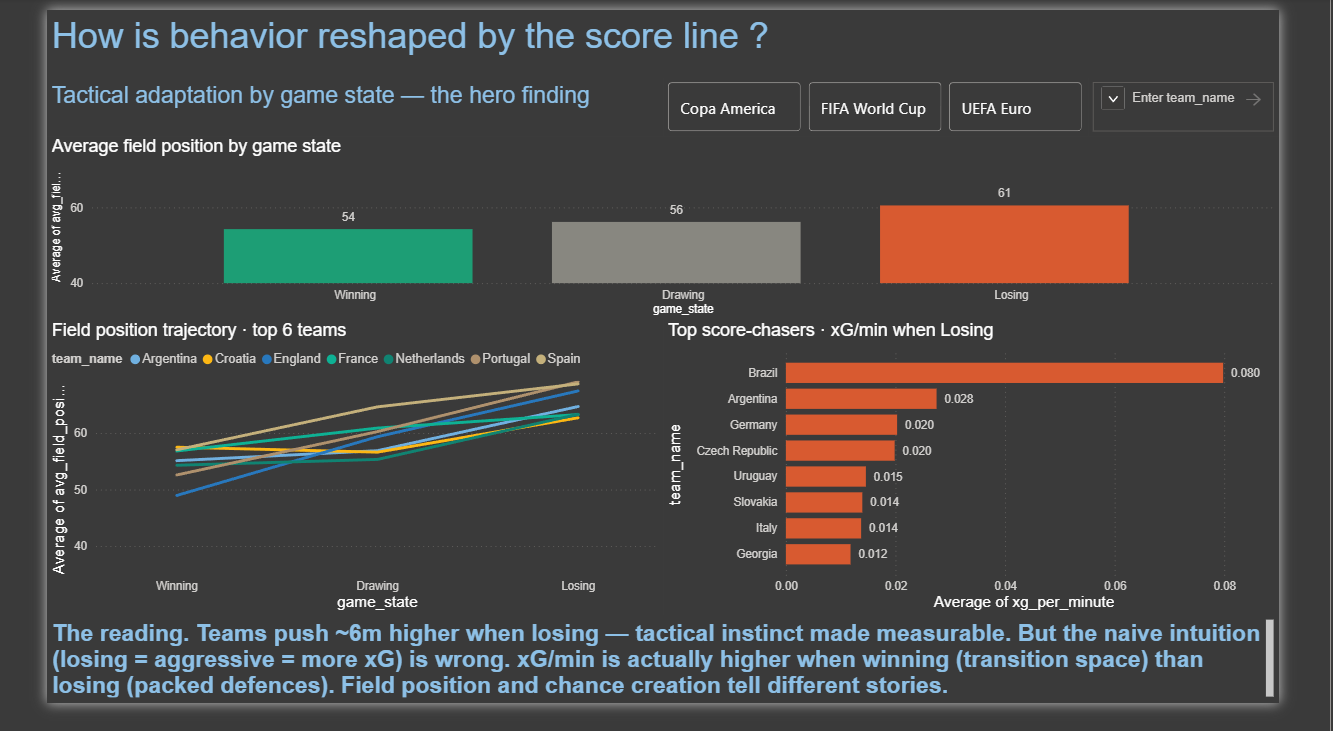

The dashboard page shown, as its layout file describes it:
{"tool":"powerbi","page":{"name":"Game State Analysis","canvas":[1280,720],"ordinal":3},"visuals":[{"type":"advancedSlicerVisual","fields":{"Values":["dim_team_competition.competition_name"]},"box":[640.5,69.9,441.7,61.4],"z":0},{"type":"clusteredBarChart","title":"Top score-chasers · xG/min when Losing","fields":{"Category":["mart_team_gamestate_behavior.team_name"],"Y":["Avg(mart_team_gamestate_behavior.xg_per_minute)"]},"box":[640,322.7,640,307],"z":0,"group":"g1"},{"type":"textSlicer","fields":{"Values":["dim_team_competition.team_name"]},"box":[1082.2,69.9,197.5,61.4],"z":1000},{"type":"shape","box":[0,629.2,1279.8,90.8],"z":1000,"group":"g1"},{"type":"textbox","box":[0,0,1279.8,62.6],"z":2000},{"type":"textbox","box":[0,629.8,1279.8,90.8],"z":2000,"group":"g1"},{"type":"textbox","box":[0,69.9,640.5,46.6],"z":3000},{"type":"clusteredColumnChart","title":"Average field position by game state","fields":{"Category":["mart_team_gamestate_behavior.game_state"],"Y":["Avg(mart_team_gamestate_behavior.avg_field_position_x)"]},"box":[0,131.3,1279.8,191.4],"z":4000},{"type":"lineChart","title":"Field position trajectory · top 6 teams","fields":{"Category":["mart_team_gamestate_behavior.game_state"],"Y":["Avg(mart_team_gamestate_behavior.avg_field_position_x)"],"Series":["mart_team_gamestate_behavior.team_name"]},"box":[0,322.7,640.5,306.8],"z":5000},{"type":"group","id":"g1","title":"Group 1","box":[0,322.7,1280,397.9],"z":6000}]}

Visuals, with their boxes in screenshot pixels (x1, y1, x2, y2), scaled from the page's 1280x720 canvas onto the 1333x731 screenshot:
advancedSlicerVisual - dim_team_competition.competition_name: pyautogui.locateOnScreen(667, 71, 1127, 133)
"Top score-chasers · xG/min when Losing" clusteredBarChart: pyautogui.locateOnScreen(666, 328, 1332, 639)
textSlicer - dim_team_competition.team_name: pyautogui.locateOnScreen(1127, 71, 1332, 133)
shape: pyautogui.locateOnScreen(0, 639, 1332, 730)
textbox: pyautogui.locateOnScreen(0, 0, 1332, 64)
textbox: pyautogui.locateOnScreen(0, 639, 1332, 730)
textbox: pyautogui.locateOnScreen(0, 71, 667, 118)
"Average field position by game state" clusteredColumnChart: pyautogui.locateOnScreen(0, 133, 1332, 328)
"Field position trajectory · top 6 teams" lineChart: pyautogui.locateOnScreen(0, 328, 667, 639)
"Group 1" group: pyautogui.locateOnScreen(0, 328, 1332, 730)
